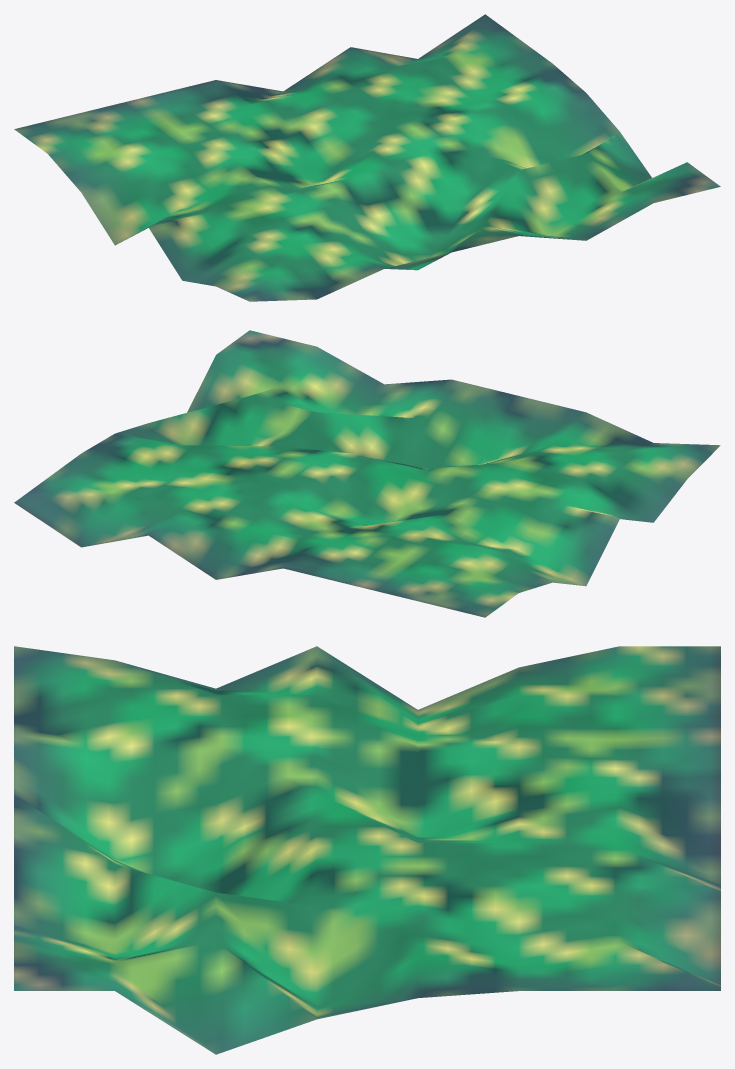
Rendered from Peas_Cooked.fbx.
3 views of the same model, one above another, from view 1: azimuth 30°, elevation 25°; view 2: azimuth 150°, elevation 25°; view 3: azimuth 270°, elevation 25° (orthographic). The views are drawn at different scales.
Visible parts, largest first — view 1: Peas_Cooked; view 2: Peas_Cooked; view 3: Peas_Cooked.
Part boxes in pixels (x1,y1,x2,y2): Peas_Cooked: [14, 14, 720, 301]; Peas_Cooked: [14, 330, 720, 617]; Peas_Cooked: [14, 646, 720, 1054].
Size of the model in its own units: 38.21 by 3.29 by 33.1.
